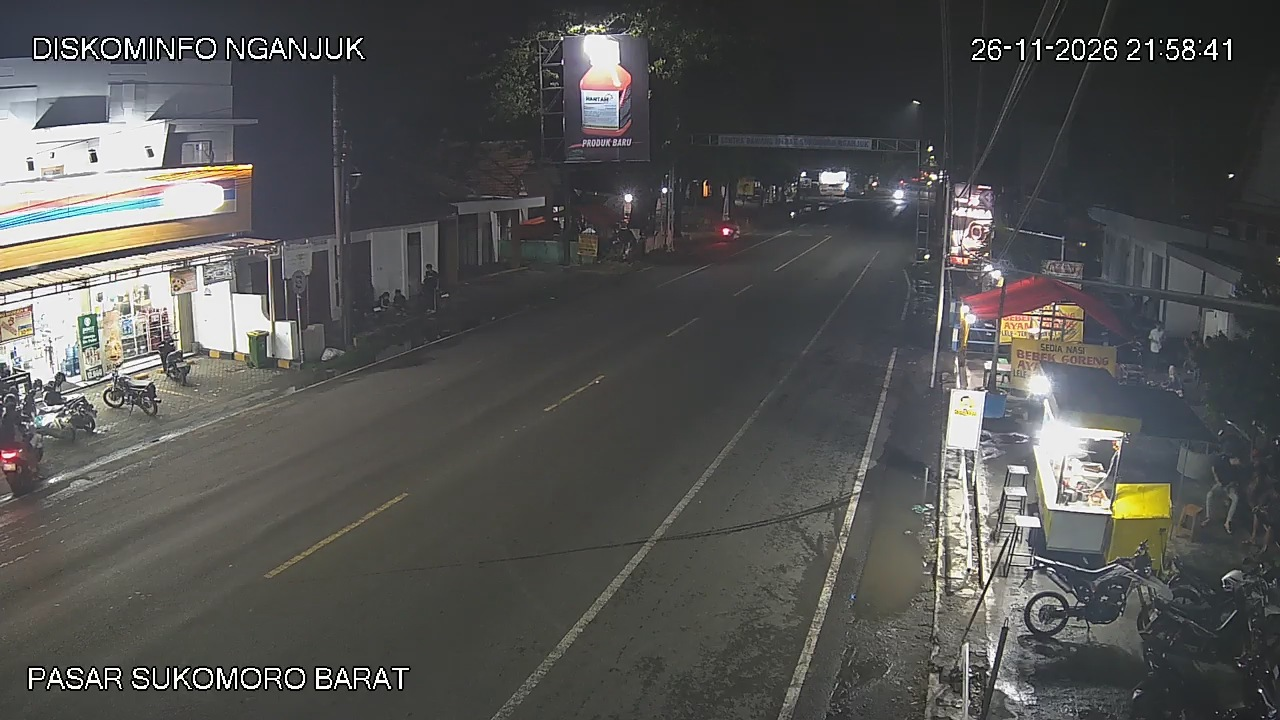Gerobak: (1025, 423, 1171, 564)
